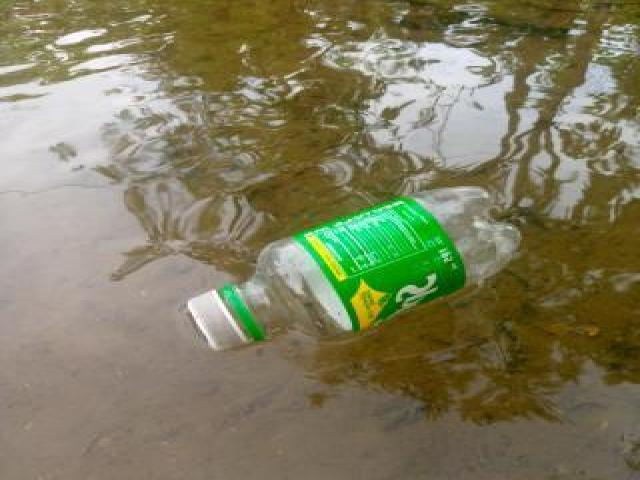Bottle: (182, 180, 523, 354)
